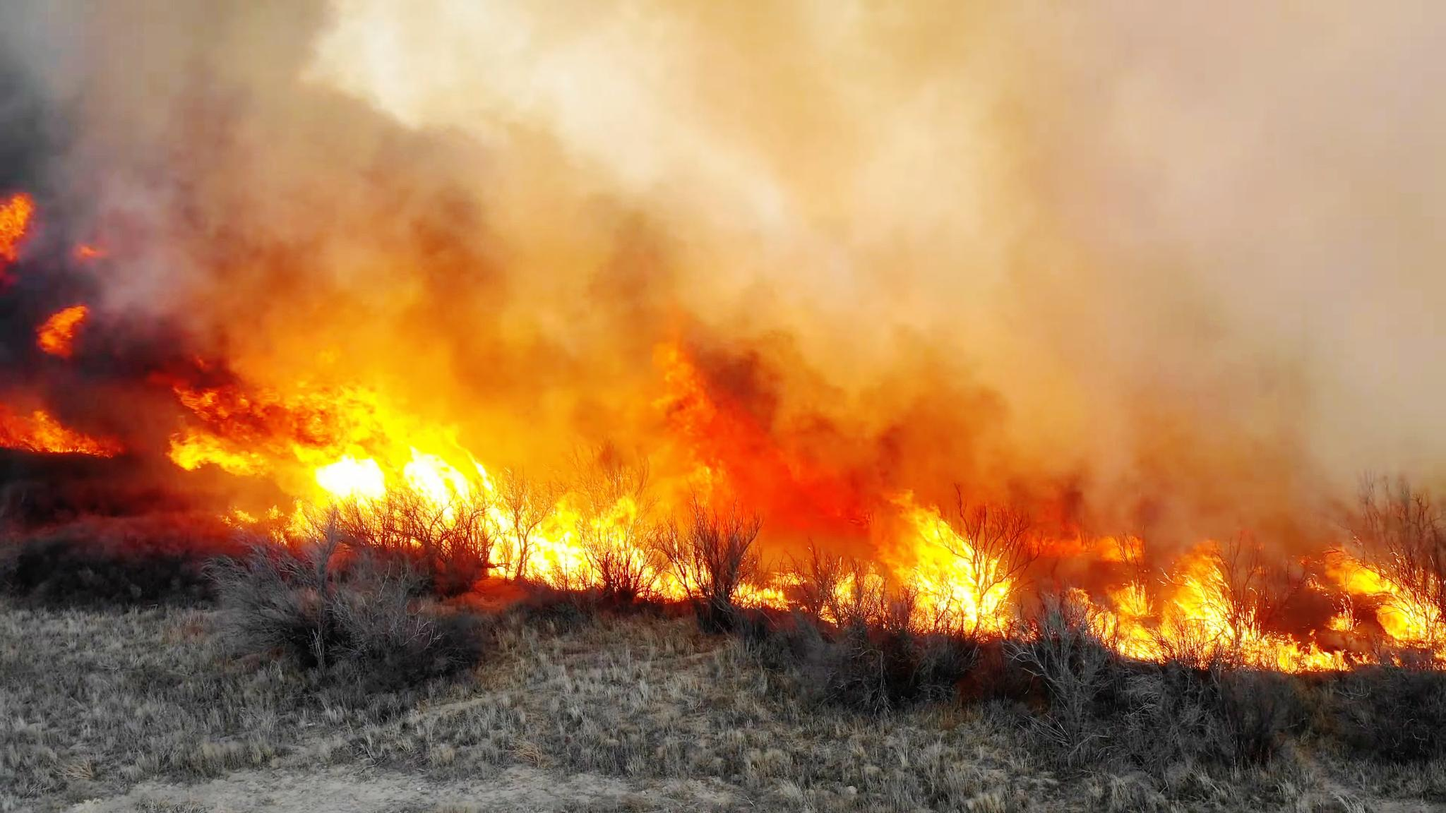fire: (275, 399, 490, 569), (1097, 541, 1267, 680), (465, 482, 644, 596), (901, 524, 1017, 637), (1337, 552, 1446, 651)
smoke: (968, 14, 1314, 472), (0, 0, 405, 264), (610, 193, 776, 395)
